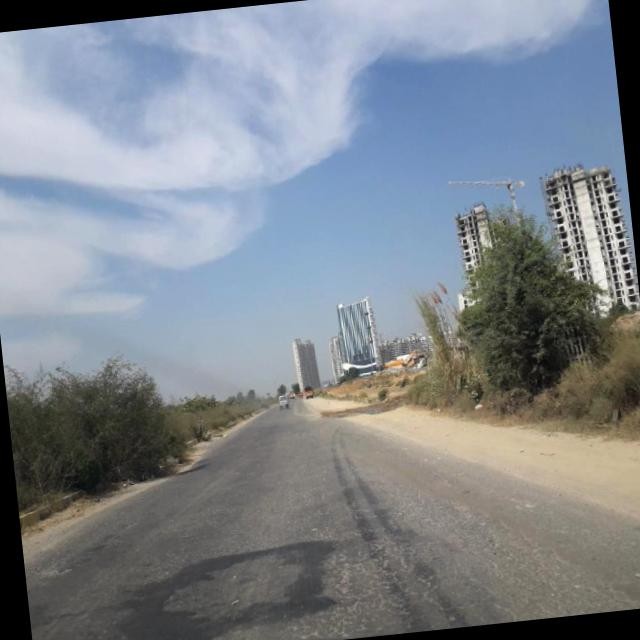crack: (263, 446, 636, 640)
